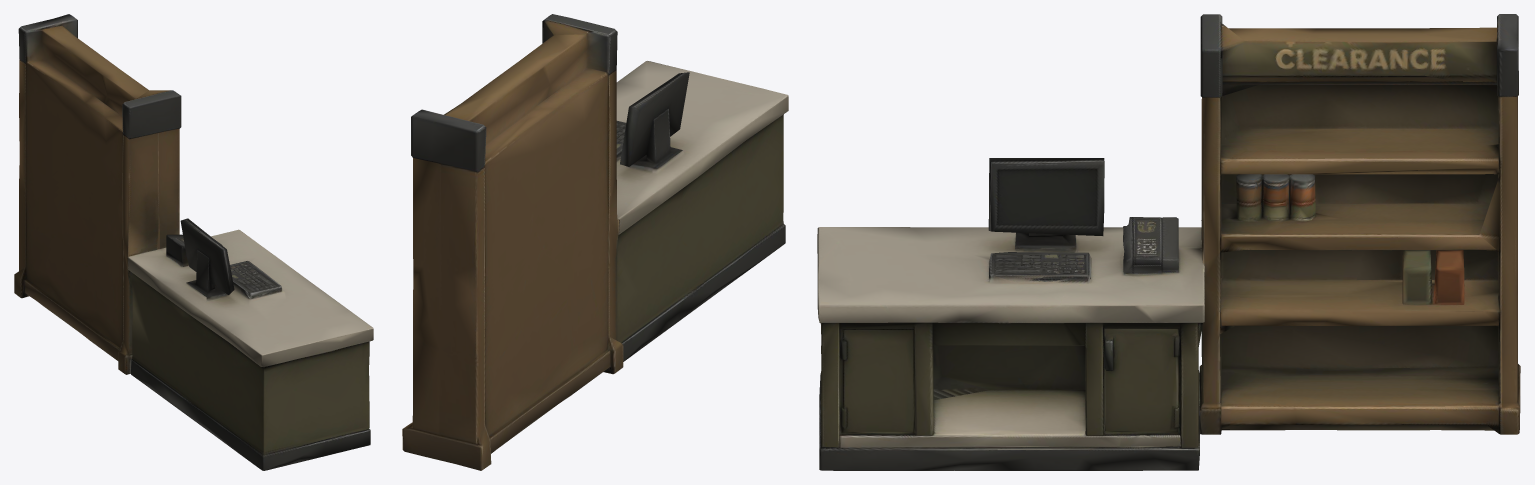
File: retail.fbx
The picture shows the model from 3 angles, left to right: view 1: azimuth 30°, elevation 25°; view 2: azimuth 150°, elevation 25°; view 3: azimuth 270°, elevation 25°; orthographic projection. The views are drawn at different scales.
Parts seen in each view (by area): view 1: tripo_node_0a1acb62; view 2: tripo_node_0a1acb62; view 3: tripo_node_0a1acb62.
Boxes of the visible parts, x1,y1,x2,y2 form: tripo_node_0a1acb62: [14, 14, 373, 470]; tripo_node_0a1acb62: [402, 14, 788, 470]; tripo_node_0a1acb62: [817, 14, 1520, 470].
Bounding box in the file's own units: 0.2683 × 0.5887 × 0.9793.
